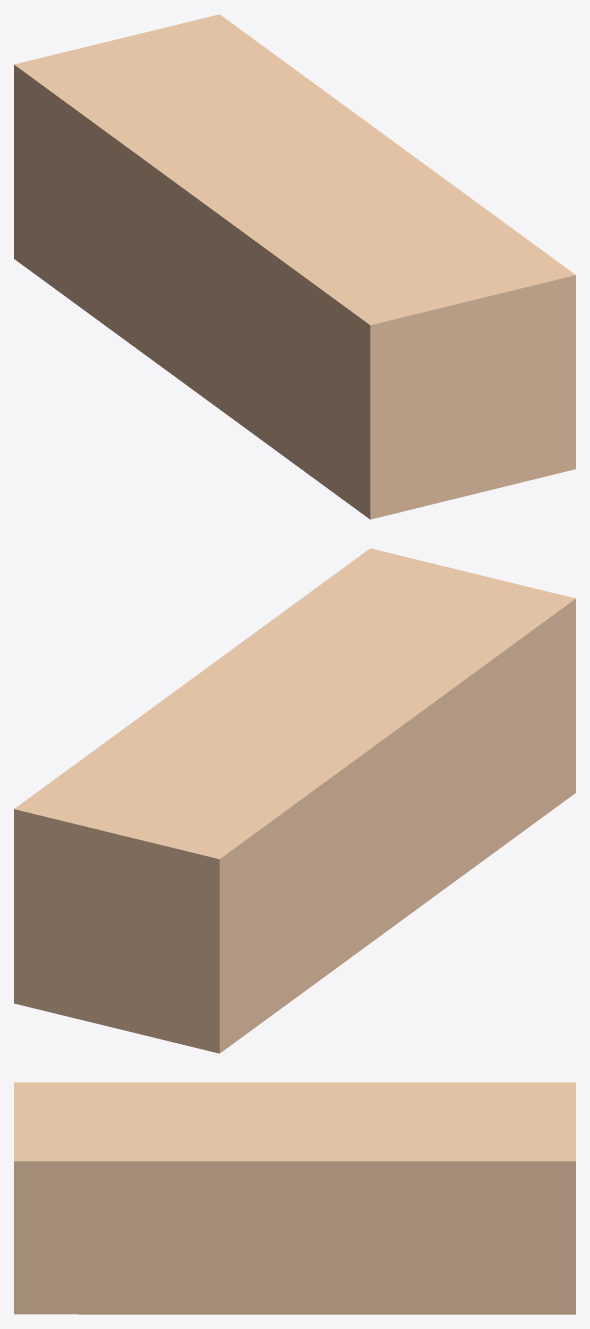
File: Link Block Sand.fbx
The picture shows the model from 3 angles, top to bottom: view 1: azimuth 30°, elevation 25°; view 2: azimuth 150°, elevation 25°; view 3: azimuth 270°, elevation 25°; orthographic projection. The views are drawn at different scales.
Visible parts, largest first — view 1: Link Block Sand; view 2: Link Block Sand; view 3: Link Block Sand.
Part boxes in pixels (<box>): Link Block Sand: <box>14,14,575,519</box>; Link Block Sand: <box>14,548,575,1053</box>; Link Block Sand: <box>14,1082,575,1314</box>.
Size of the model in its own units: 100 by 90.3 by 300.
